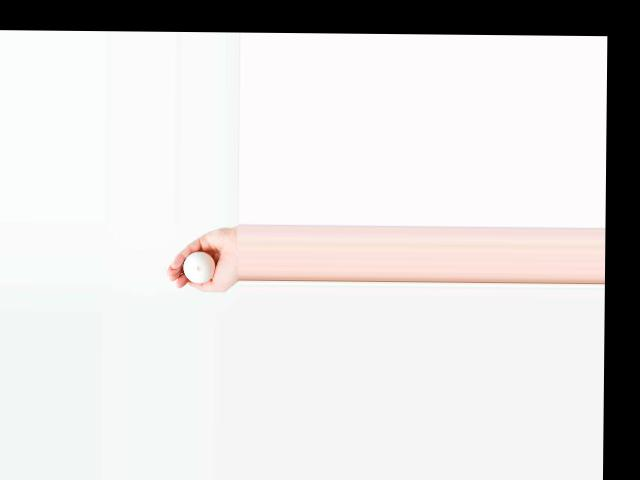egg: (182, 251, 214, 282)
